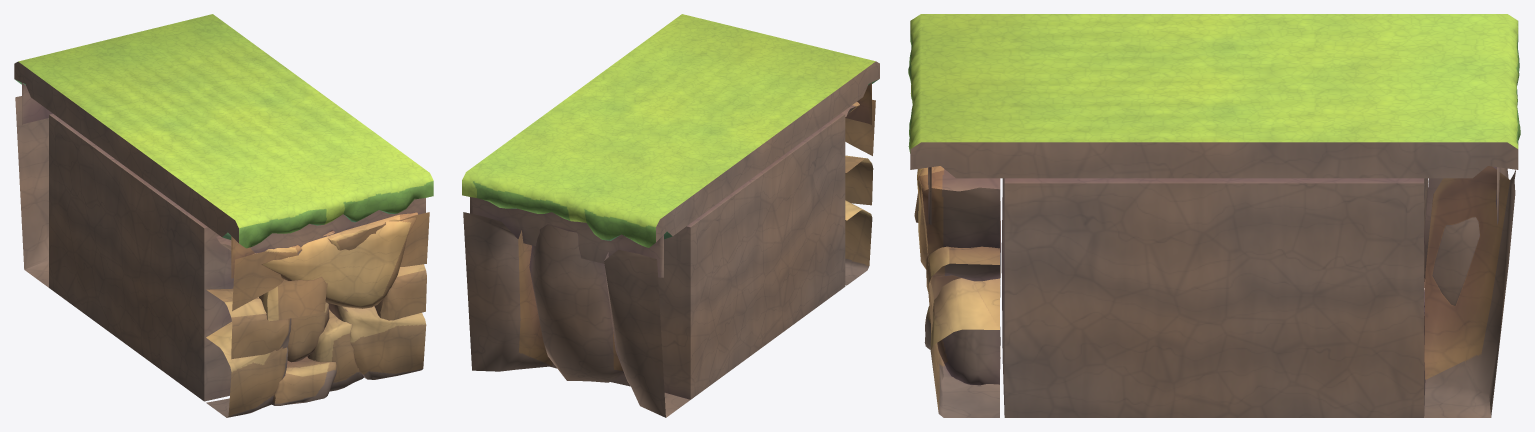
The model's file is T01_GrassCliffCore_V2.fbx.
The picture shows the model from 3 angles, left to right: view 1: azimuth 30°, elevation 25°; view 2: azimuth 150°, elevation 25°; view 3: azimuth 270°, elevation 25°; orthographic projection. The views are drawn at different scales.
Visible parts, largest first — view 1: T01_GrassCliffCore_V2; view 2: T01_GrassCliffCore_V2; view 3: T01_GrassCliffCore_V2.
Part boxes in pixels (box(x1,y1,x2,y2)): T01_GrassCliffCore_V2: box(14, 14, 433, 417); T01_GrassCliffCore_V2: box(462, 14, 879, 417); T01_GrassCliffCore_V2: box(908, 14, 1520, 417).
Bounding box in the file's own units: 2 × 2.02 × 4.03.
